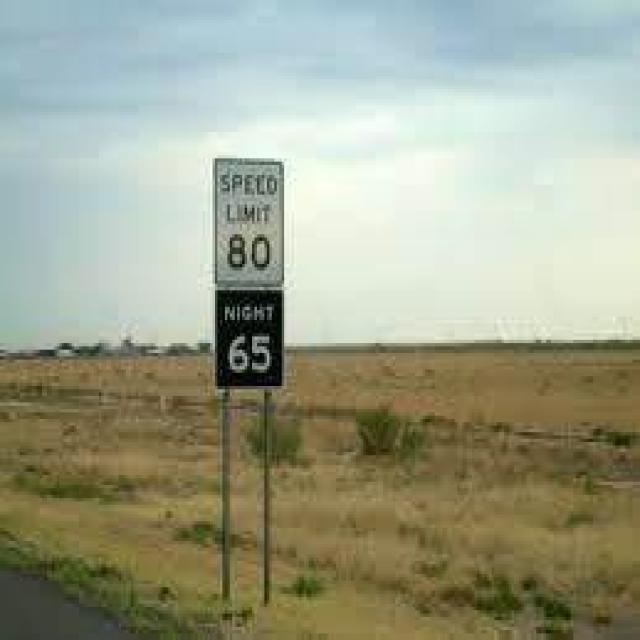speedLimit80: (216, 153, 287, 393)
